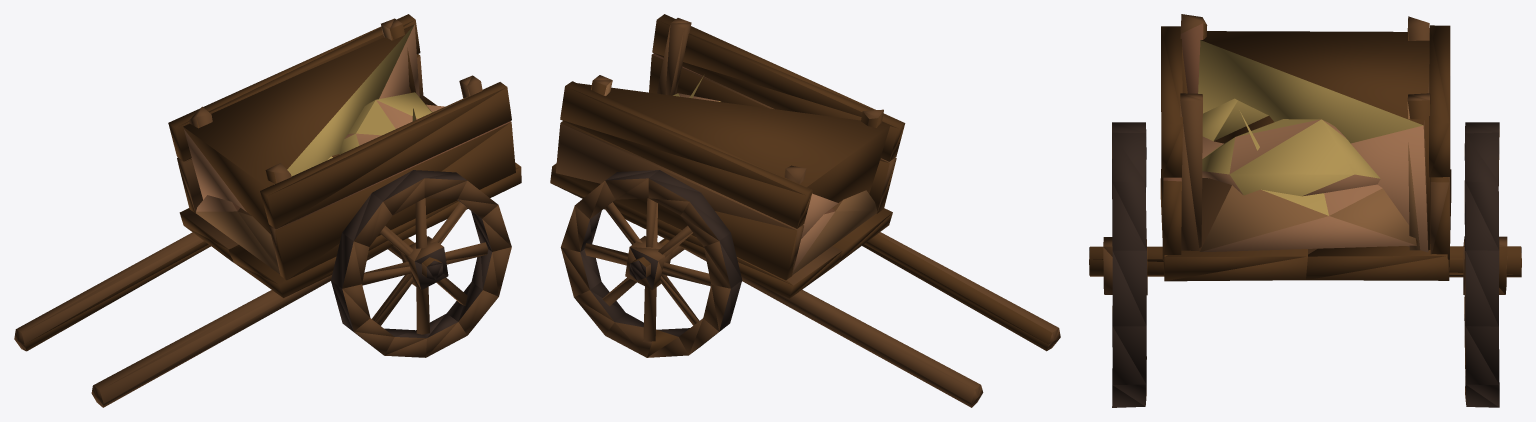
File: prop.cart.glb
3 renders of one model, left to right at view 1: azimuth 30°, elevation 25°; view 2: azimuth 150°, elevation 25°; view 3: azimuth 270°, elevation 25°, orthographic. The views are drawn at different scales.
Visible parts, largest first — view 1: asset; view 2: asset; view 3: asset.
Part boxes in pixels (<box>): asset: <box>14,14,521,407</box>; asset: <box>550,14,1060,407</box>; asset: <box>1089,14,1521,407</box>.
Size of the model in its own units: 1.45 by 0.8 by 0.8937.
